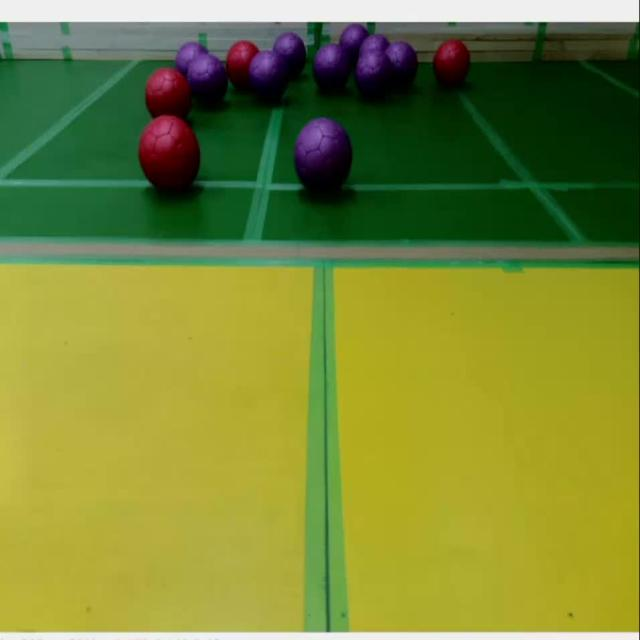purple_ball: (294, 117, 358, 204), (188, 54, 228, 109), (250, 52, 288, 108), (313, 45, 352, 95), (271, 32, 309, 80), (358, 51, 394, 100), (386, 43, 419, 89), (173, 40, 209, 71), (359, 32, 391, 66), (340, 23, 366, 58)
red_ball: (141, 118, 201, 198), (433, 40, 472, 95), (147, 75, 189, 115), (227, 42, 250, 85)
